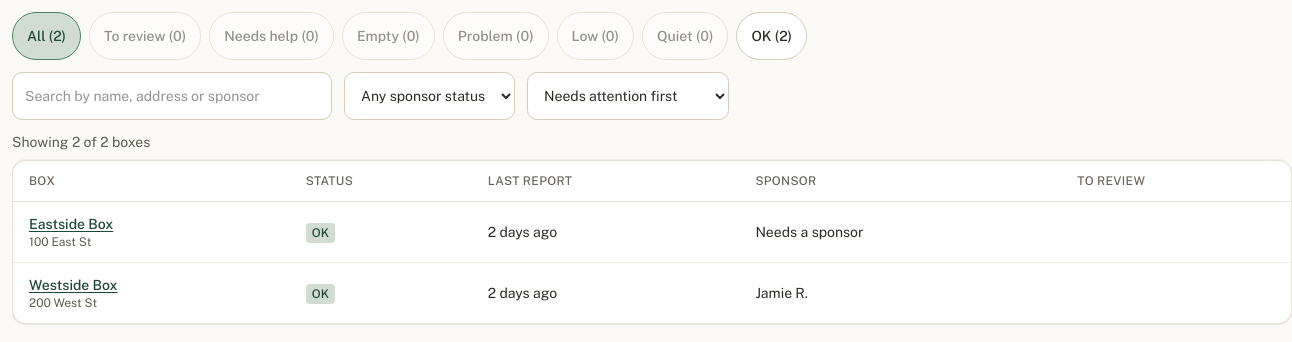
AllBoxesTable — search › matches by address
Type "200 west" into the field named "Search boxes" at (172, 96), box [12,72,332,120]
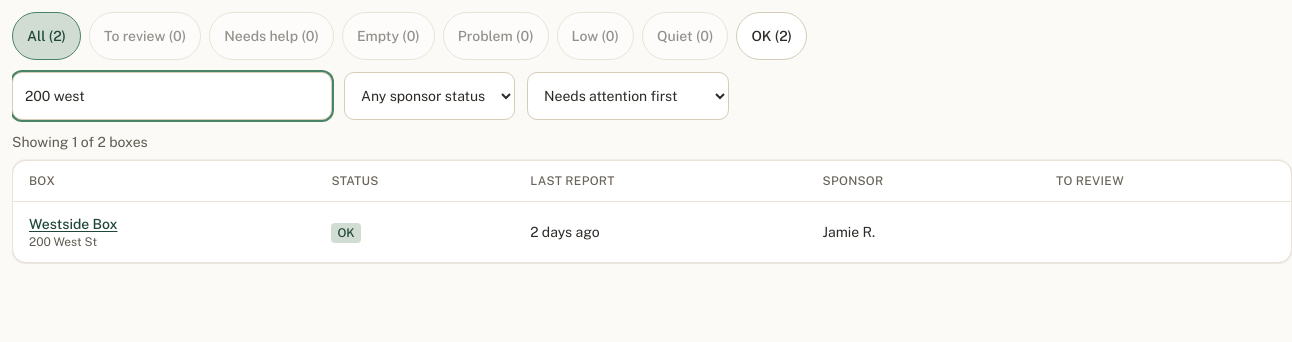
Expected: the link "Westside Box" is shown, [29,216,118,232]
Result: the link "Eastside Box" is gone
